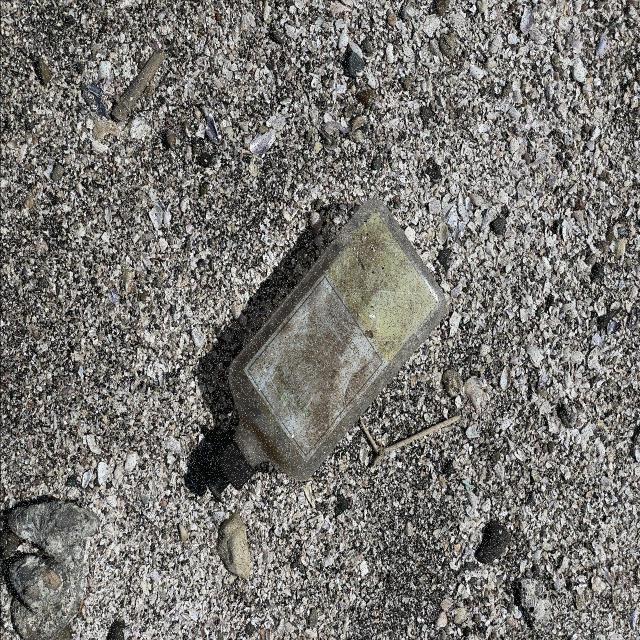plastic_waste: (205, 198, 449, 500)
